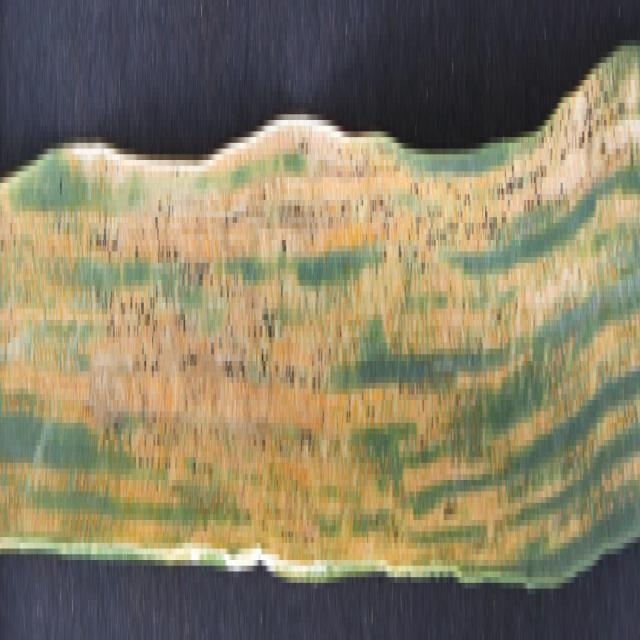leaf rust: (0, 46, 638, 577)
